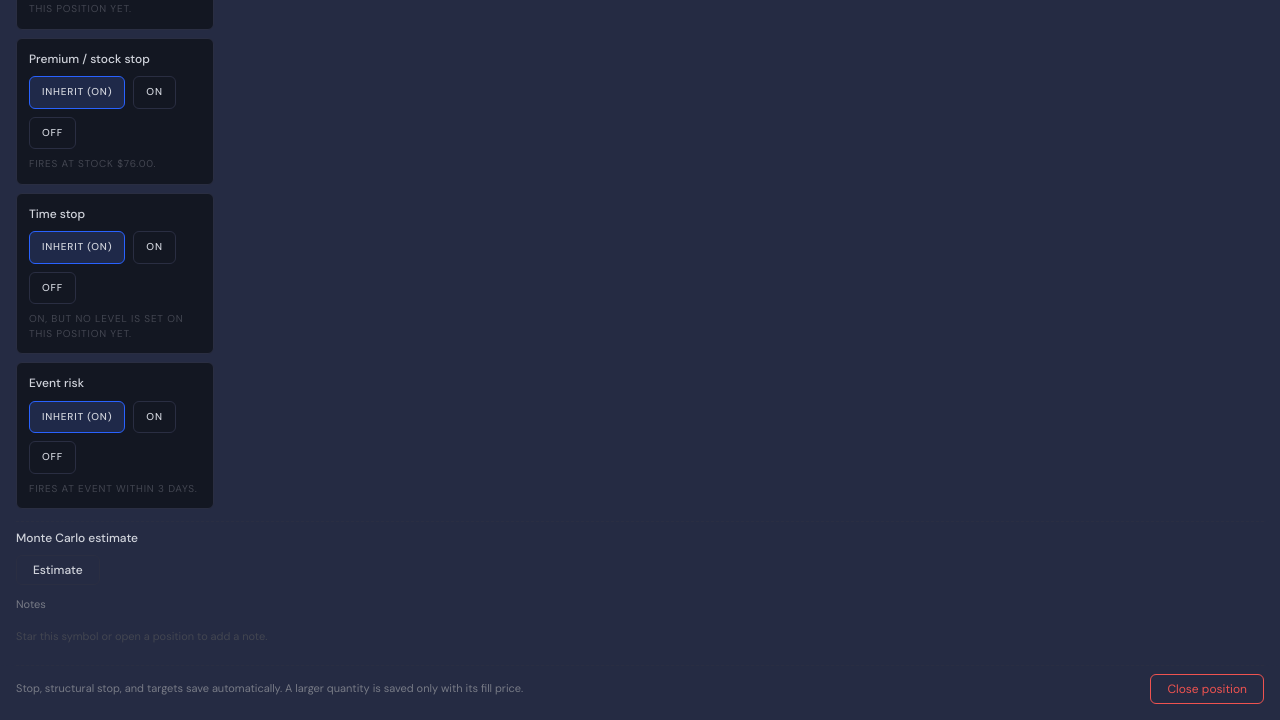
Scenario: EditDrawer Monte Carlo estimate › renders modelCaveat when the backend flags a poor model fit
(page scrolled)
Click the button "Estimate" at (58, 570), box top-left (16, 555), bottom-right (100, 585)
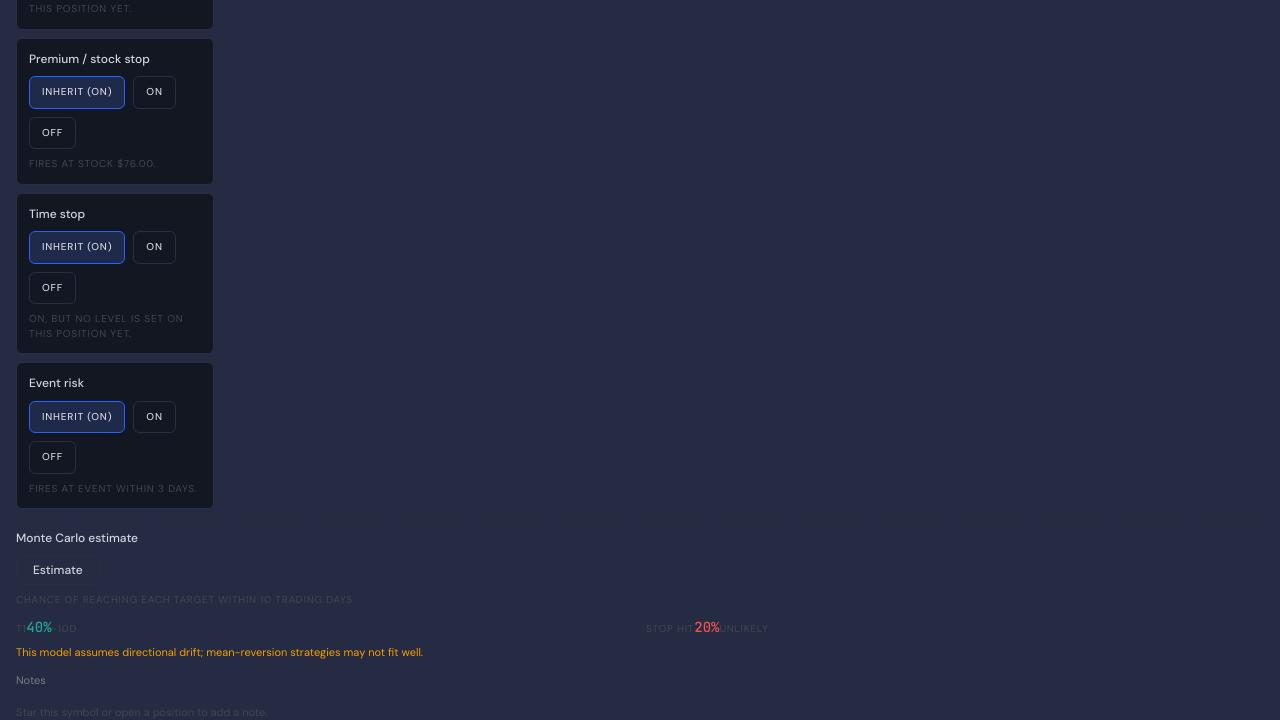
Now the text "may not fit well" is shown, box top-left (16, 645), bottom-right (423, 659)
